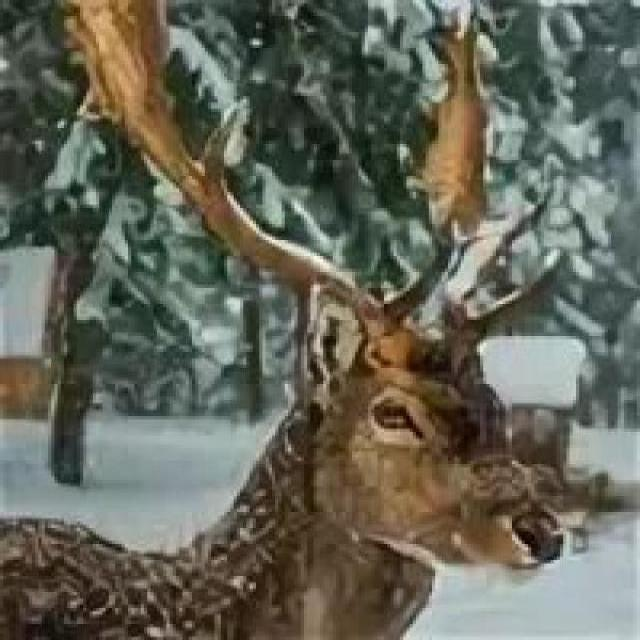deer: (0, 62, 621, 640)
